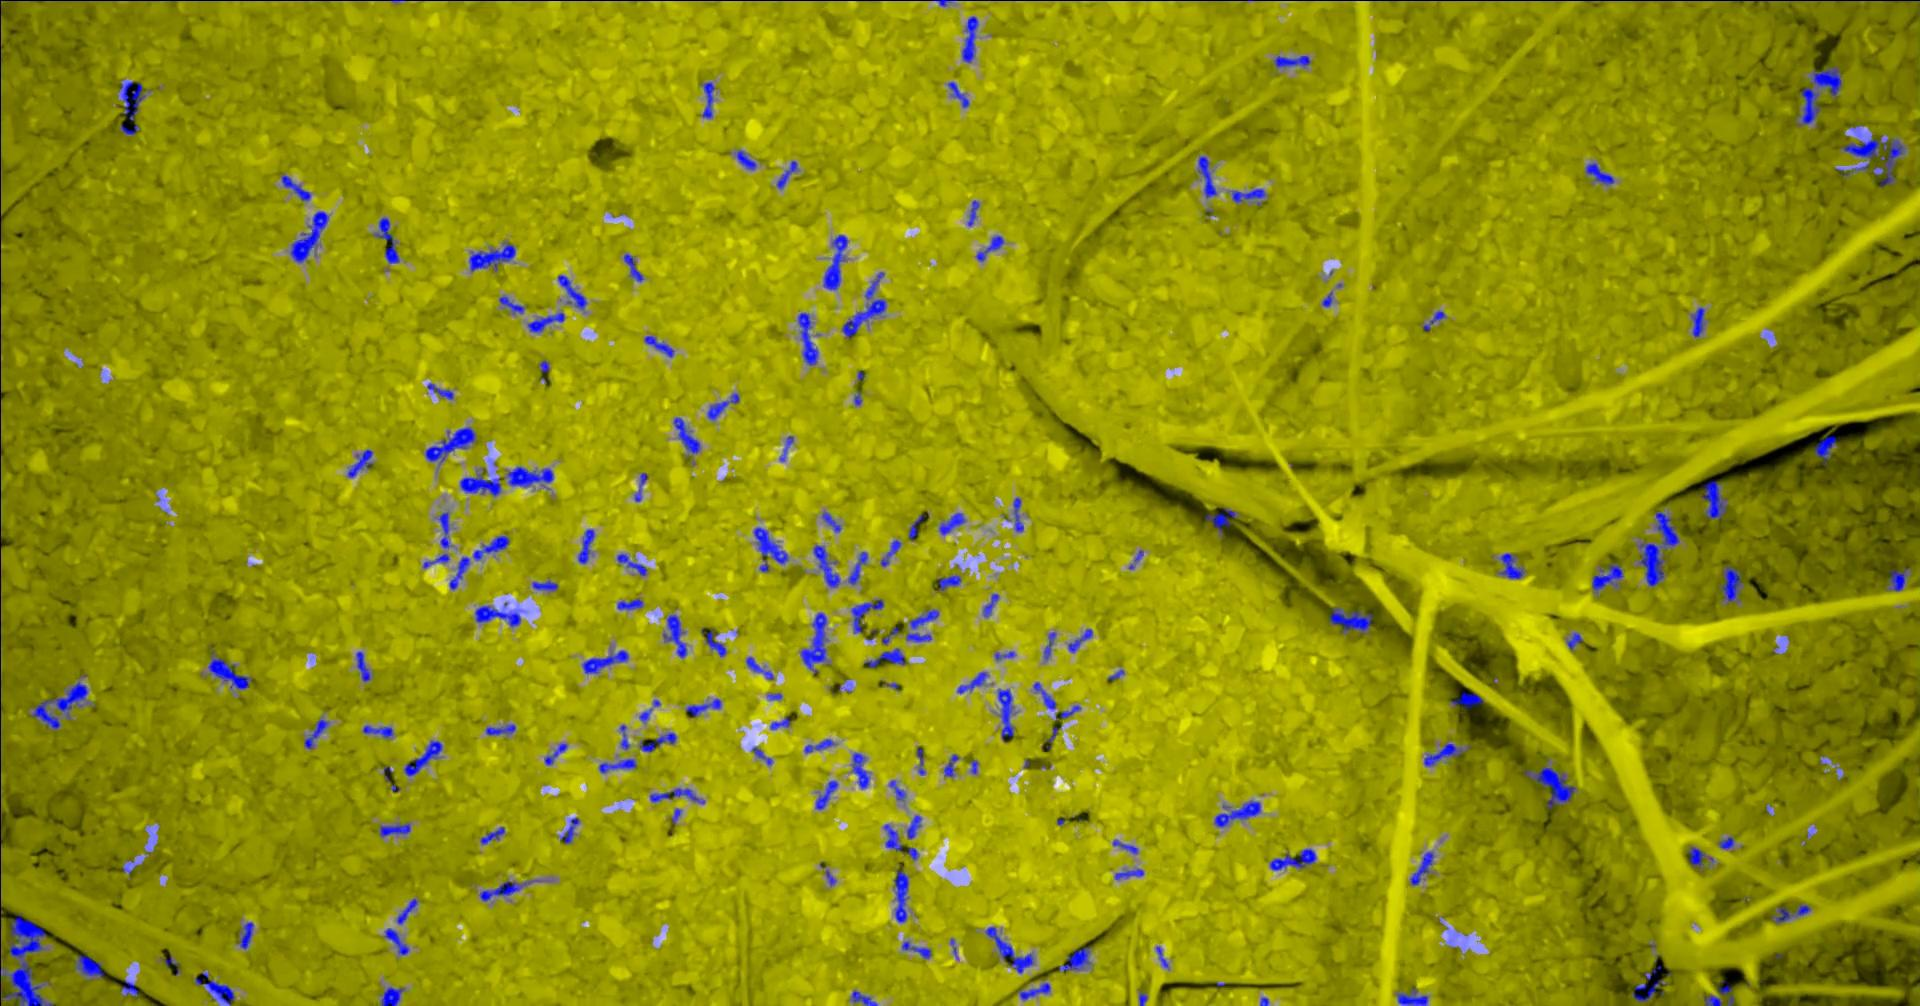ant: (450, 535, 509, 589), (841, 271, 886, 337), (30, 681, 88, 728), (985, 926, 1032, 973), (1523, 766, 1575, 808), (424, 426, 475, 465), (290, 211, 328, 262), (800, 612, 827, 673), (753, 527, 789, 572), (208, 653, 251, 688), (403, 741, 442, 776), (469, 241, 516, 271), (823, 234, 847, 290), (194, 972, 234, 1005), (458, 467, 500, 495), (373, 217, 399, 263), (1214, 800, 1260, 826), (813, 545, 839, 587), (479, 880, 533, 901), (1328, 607, 1371, 633), (582, 650, 629, 673), (1699, 480, 1726, 520), (851, 600, 883, 633), (662, 614, 686, 657), (474, 605, 521, 626), (1269, 848, 1316, 870), (1591, 561, 1623, 593), (797, 312, 817, 365), (673, 417, 700, 453), (1810, 66, 1841, 97), (119, 81, 145, 119), (1204, 507, 1236, 537), (557, 274, 585, 309), (507, 466, 552, 486), (1423, 743, 1462, 766), (997, 688, 1013, 741), (707, 392, 739, 419), (649, 788, 703, 803), (893, 869, 908, 922), (1197, 155, 1217, 197), (863, 648, 905, 667), (1632, 977, 1665, 1001), (1410, 851, 1432, 885), (961, 15, 978, 62), (1798, 86, 1818, 124), (1703, 979, 1733, 1005), (1719, 565, 1741, 601), (281, 174, 310, 199), (347, 448, 372, 478), (1058, 948, 1090, 970), (975, 235, 1003, 260), (700, 627, 725, 655), (303, 719, 328, 748), (527, 312, 564, 332), (639, 732, 676, 751), (1770, 904, 1810, 922), (616, 553, 646, 575), (956, 671, 987, 694), (745, 655, 773, 680), (1032, 681, 1057, 709), (847, 551, 867, 584), (75, 954, 104, 977), (684, 699, 721, 716), (643, 335, 674, 356), (1498, 553, 1524, 578), (383, 927, 408, 954), (577, 528, 594, 564), (1585, 163, 1614, 184), (1815, 434, 1836, 464), (815, 780, 837, 809), (1067, 627, 1092, 652), (1230, 188, 1265, 206), (1396, 986, 1427, 1005), (776, 160, 797, 188), (852, 752, 869, 788), (1017, 982, 1050, 1000), (598, 758, 636, 774), (908, 511, 928, 539), (880, 539, 900, 567), (909, 608, 938, 627), (938, 512, 964, 533), (1450, 691, 1483, 708), (559, 817, 579, 843), (623, 253, 643, 281), (543, 743, 568, 765), (902, 940, 931, 958), (947, 81, 968, 107), (396, 898, 417, 923), (883, 823, 902, 850), (1422, 310, 1445, 332), (1274, 55, 1310, 67), (701, 81, 714, 118), (1888, 567, 1909, 589), (498, 296, 524, 312), (427, 382, 453, 399), (1688, 846, 1708, 868), (380, 986, 403, 1005), (480, 826, 504, 843), (422, 553, 450, 568), (804, 738, 834, 752), (850, 989, 877, 1005), (438, 511, 450, 547), (822, 511, 841, 532), (1690, 307, 1704, 337), (356, 652, 370, 681), (237, 922, 253, 949), (378, 823, 410, 836), (1012, 497, 1023, 531), (634, 473, 648, 500), (362, 725, 392, 738), (750, 746, 772, 763), (982, 593, 998, 616), (778, 434, 792, 461), (1055, 704, 1079, 719), (737, 150, 756, 169), (485, 724, 516, 735), (905, 815, 921, 838), (1043, 633, 1055, 659), (1112, 840, 1137, 854), (889, 780, 905, 800), (1114, 868, 1143, 879), (937, 575, 960, 589), (1043, 727, 1057, 749), (943, 753, 957, 776), (121, 979, 138, 996), (770, 716, 792, 729), (616, 598, 643, 608), (968, 199, 978, 225), (618, 724, 629, 749), (1566, 633, 1581, 649), (916, 747, 924, 775), (532, 580, 557, 589), (905, 633, 931, 641), (119, 123, 138, 133), (1718, 836, 1733, 848), (994, 652, 1015, 661)
